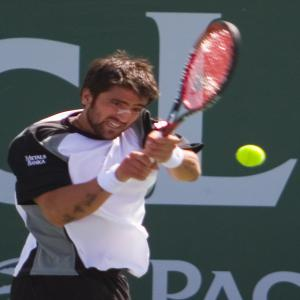TennisBall: (237, 145, 267, 167)
